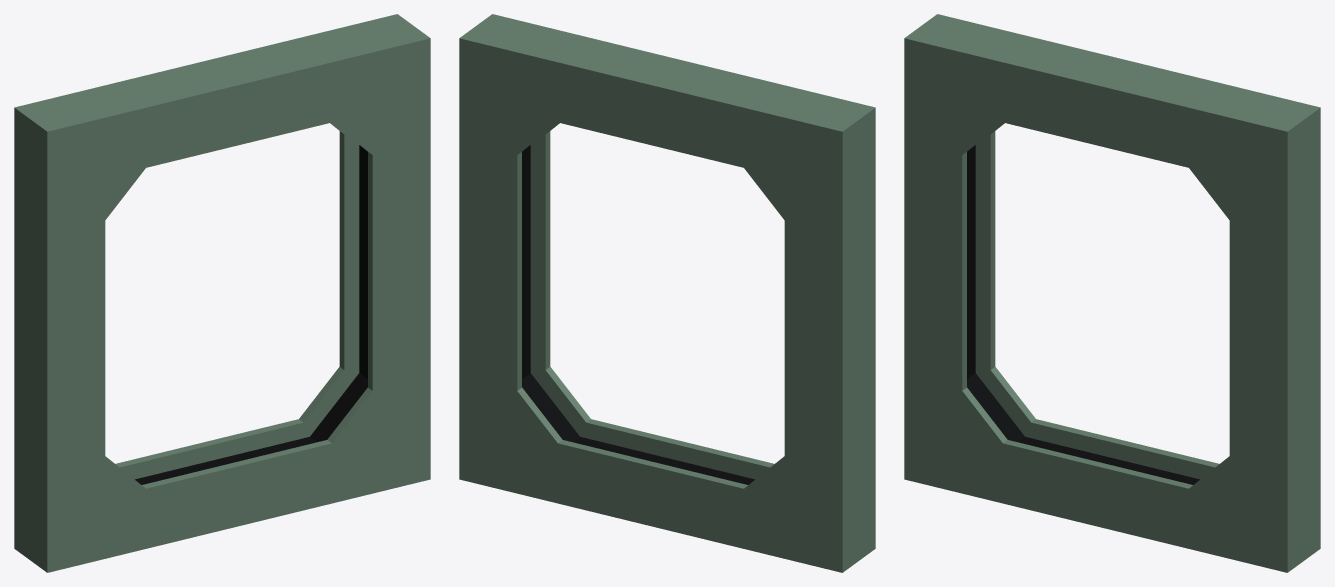
Rendered from W2_WallWindow1B_2m.fbx.
3 views of the same model, side by side, from view 1: azimuth 30°, elevation 25°; view 2: azimuth 150°, elevation 25°; view 3: azimuth 330°, elevation 25° (orthographic).
Parts seen in each view (by area): view 1: W2_WallWindow1B_2m.001; view 2: W2_WallWindow1B_2m.001; view 3: W2_WallWindow1B_2m.001.
Part boxes in pixels (x1,y1,x2,y2): W2_WallWindow1B_2m.001: [14, 14, 430, 572]; W2_WallWindow1B_2m.001: [459, 14, 875, 572]; W2_WallWindow1B_2m.001: [904, 14, 1320, 572].
Bounding box in the file's own units: 2 × 2.2 × 0.3.
